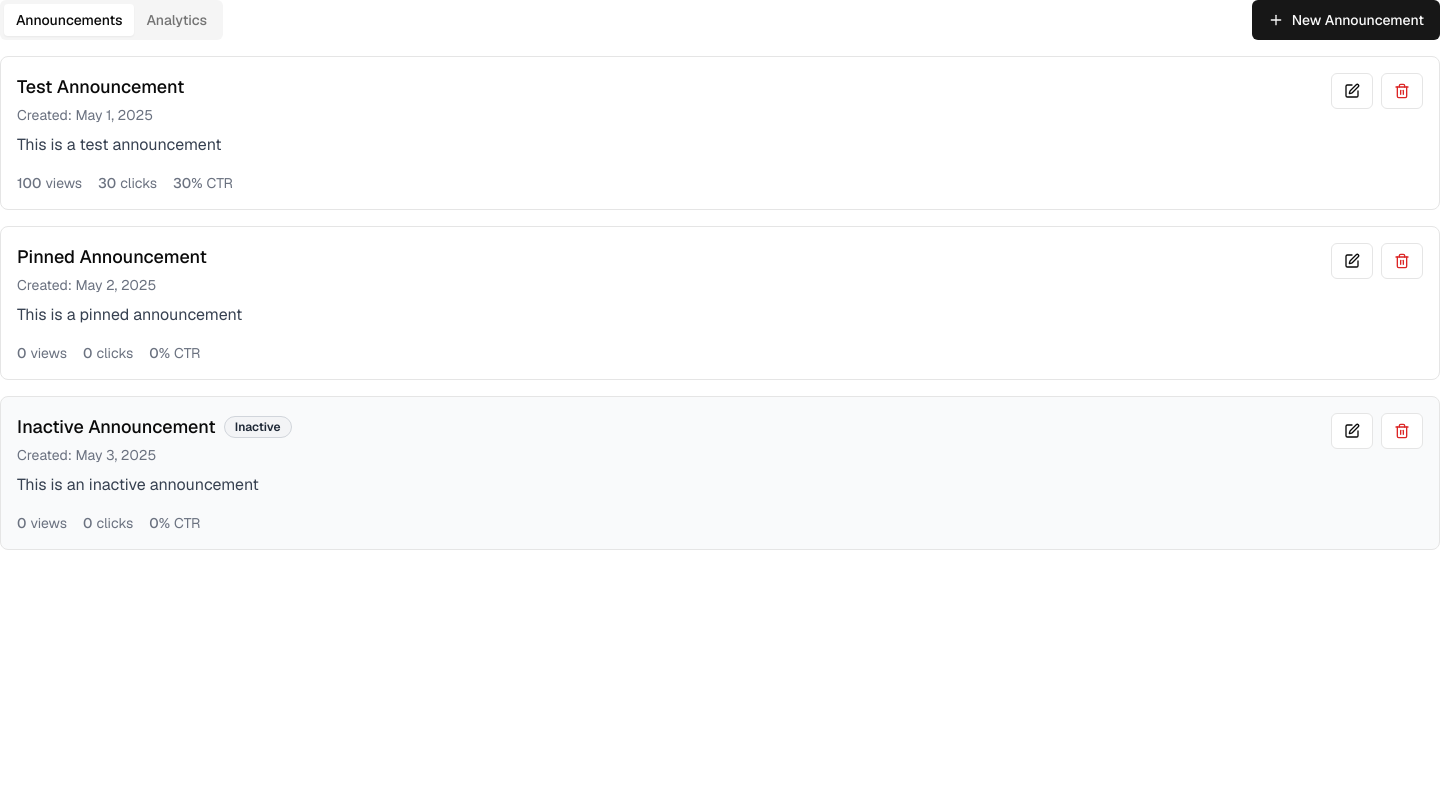
Test: AnnouncementManagement › allows creating a new announcement
Note: Click the "New Announcement" button
Click the button "New Announcement" at (1346,20), box [1252, 0, 1439, 40]
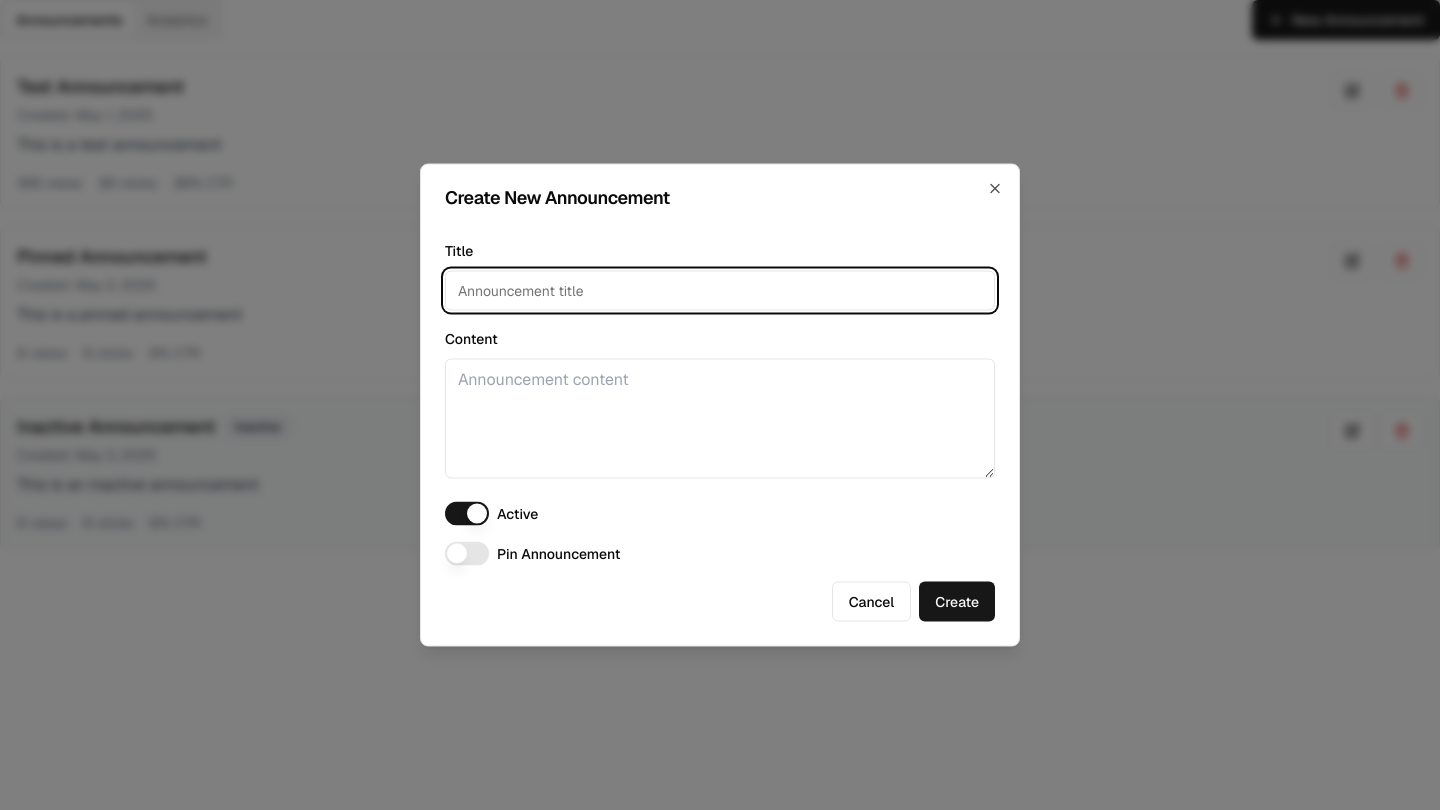
Check: the heading "Create New Announcement" is shown, box [445, 186, 670, 208]
Note: Fill out the form
Type "New Announcement" into the field labelled "Title" at (720,290), box [445, 270, 995, 310]
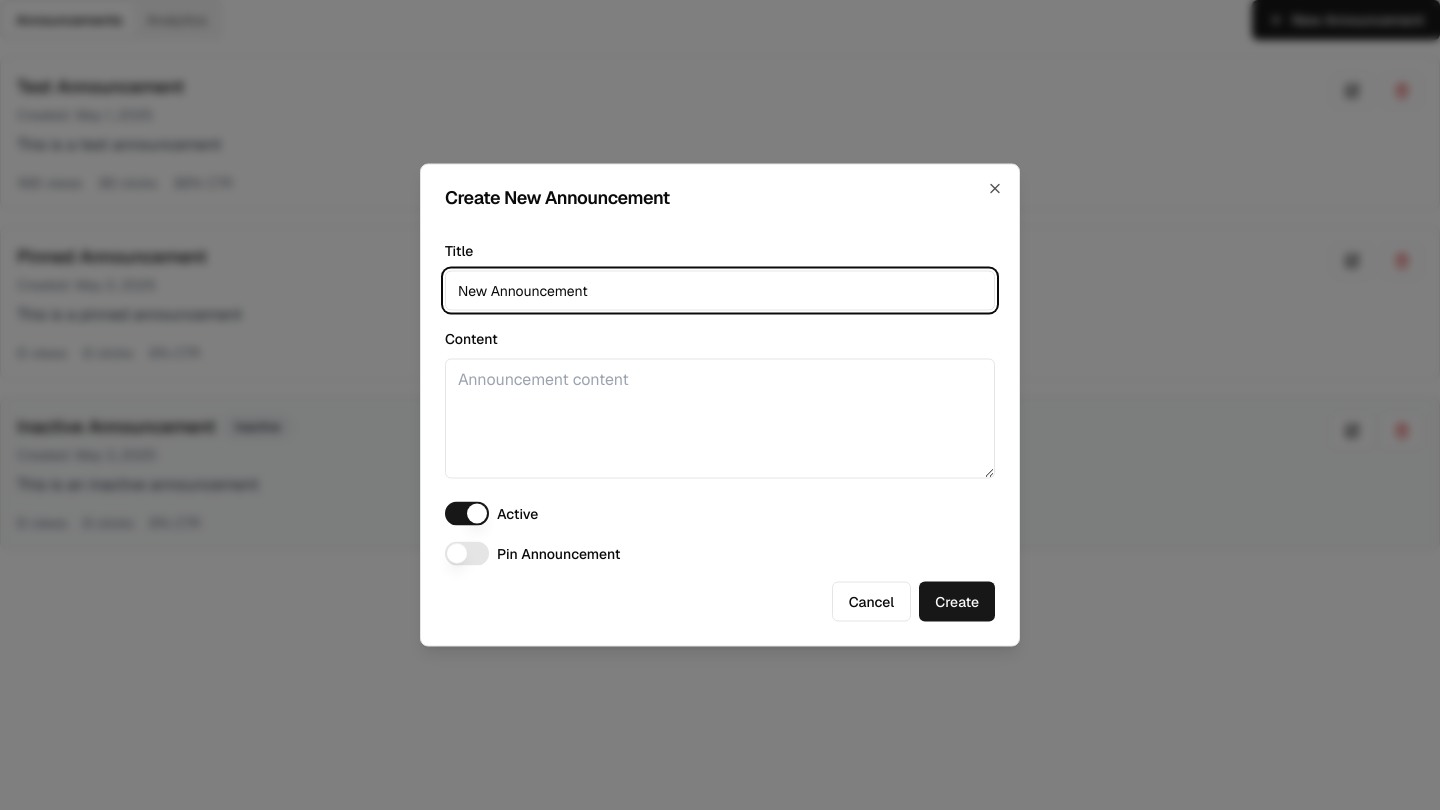
Type "This is a new announcement" into the text box labelled "Content" at (720,418), box [445, 358, 995, 478]
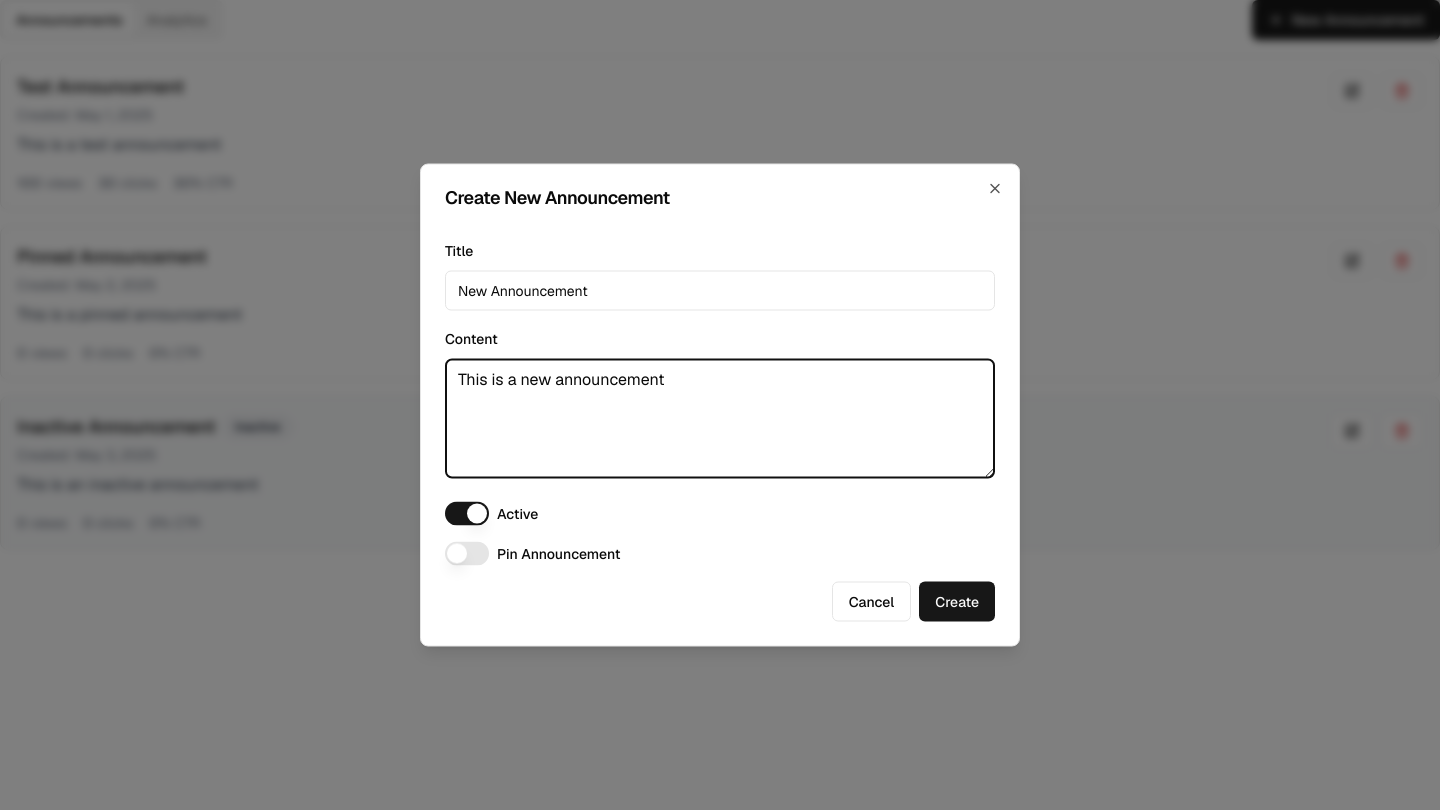
Note: Submit the form
Click the button "Create" at (957,602), box [919, 582, 995, 622]
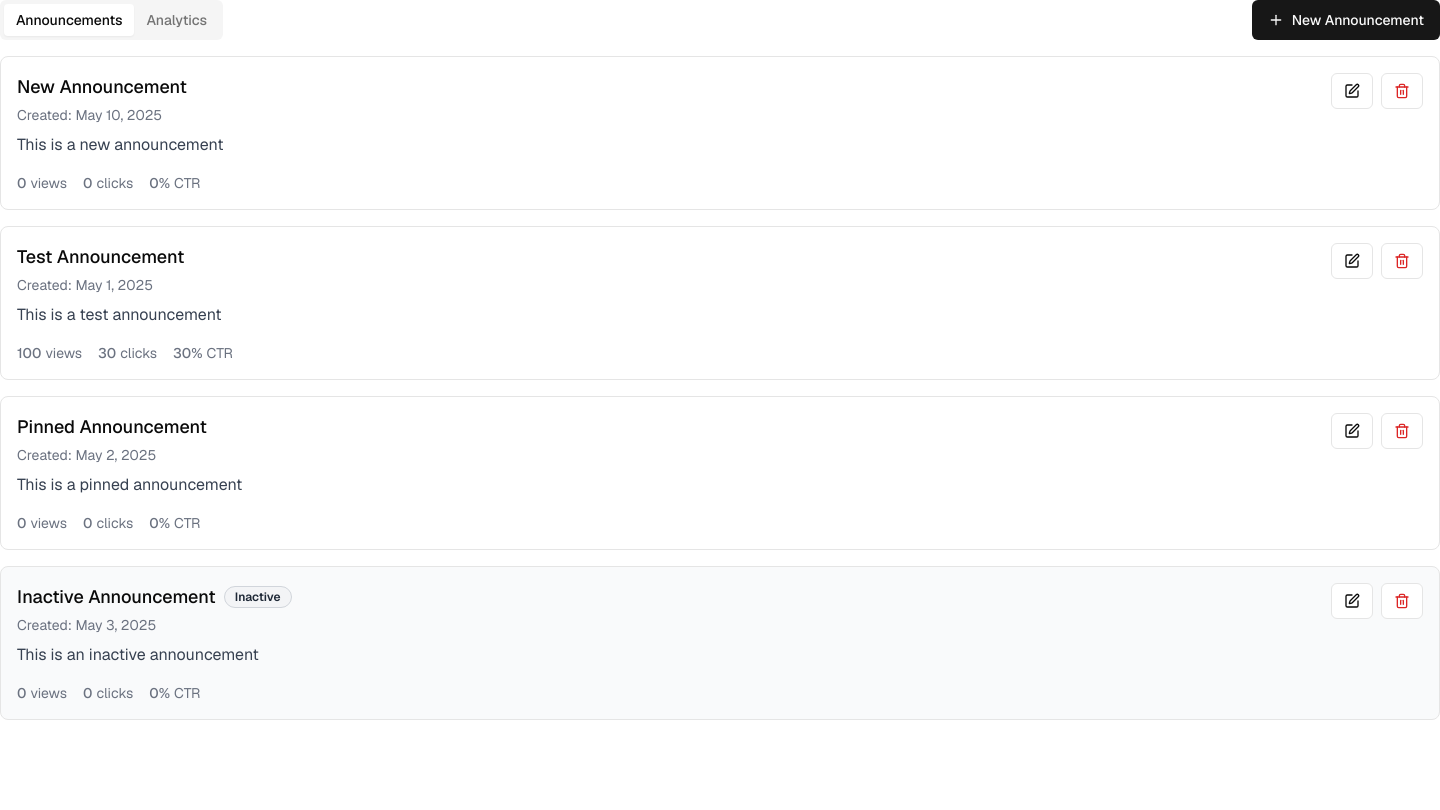
Check: the heading "New Announcement" is shown, box [17, 73, 187, 101]
